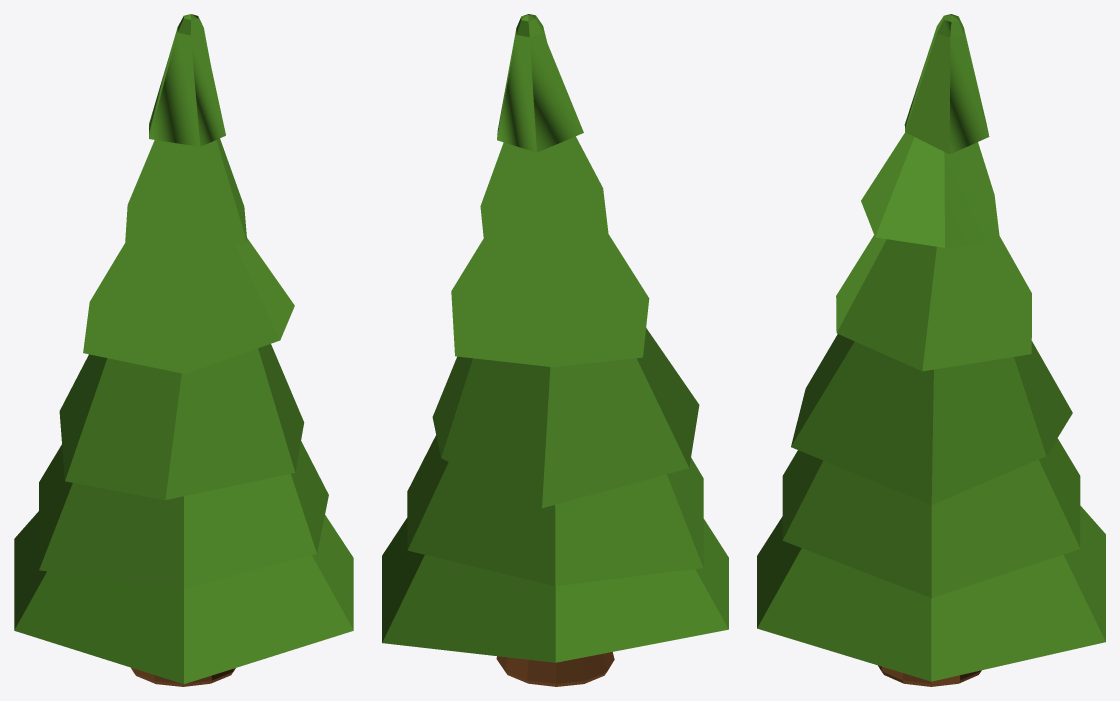
Rendered from Low Poly Pine.fbx.
3 views of the same model, side by side, from view 1: azimuth 30°, elevation 25°; view 2: azimuth 150°, elevation 25°; view 3: azimuth 270°, elevation 25° (orthographic). The views are drawn at different scales.
Visible parts, largest first — view 1: LowPoly_Pine; view 2: LowPoly_Pine; view 3: LowPoly_Pine.
Part boxes in pixels (x1,y1,x2,y2): LowPoly_Pine: [14, 14, 353, 686]; LowPoly_Pine: [382, 14, 728, 686]; LowPoly_Pine: [757, 14, 1105, 686].
Size of the model in its own units: 571 by 1034 by 495.
